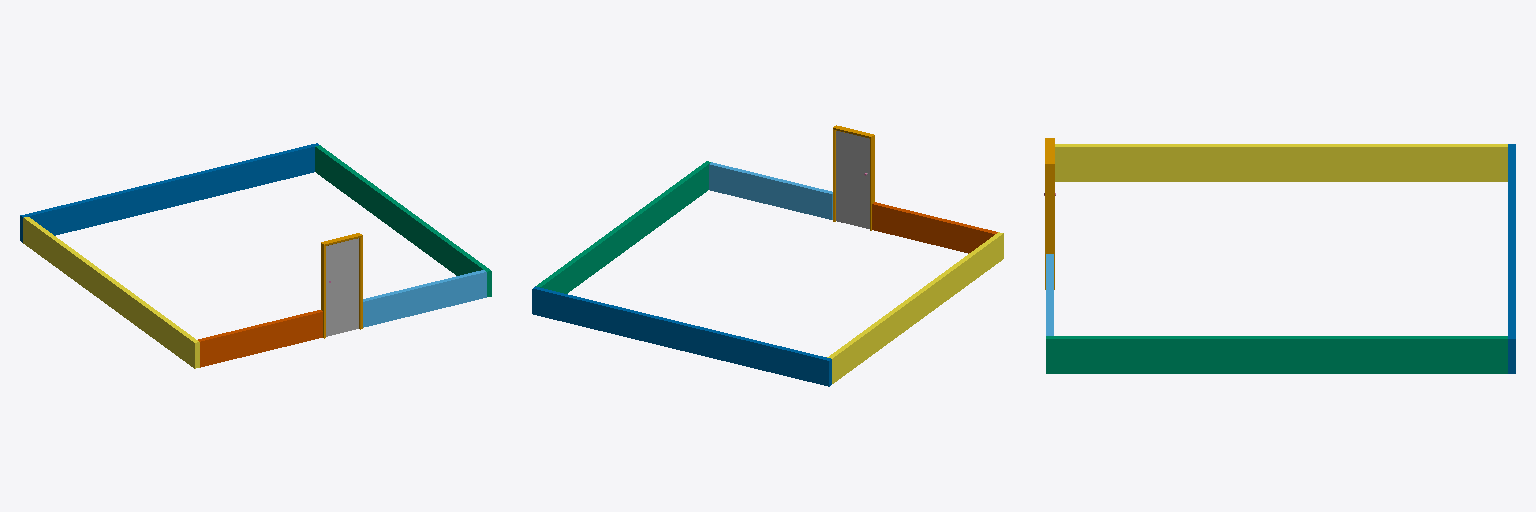
robot.urdf — 8903:
<?xml version="1.0" ?>
<robot name="8903" version="1.0">
  <link name="base_link">
    <visual name="link_0___1">
      <origin rpy="0.0 0.0 0.0" xyz="0.0 -0.0 0.0"/>
      <geometry>
        <mesh filename="shape/visual/link_0_m1_vm.obj"/>
      </geometry>
    </visual>
    <collision>
      <origin rpy="0.0 0.0 0.0" xyz="0.0 -0.0 0.0"/>
      <geometry>
        <mesh filename="shape/collision/link_0_cm.obj"/>
      </geometry>
    </collision>
  </link>
  <link name="door_left_wall">
    <visual name="left_wall_0___1">
      <origin rpy="0.0 0.0 0.0" xyz="0.0 -0.0 0.0"/>
      <geometry>
        <box size="2.5 0.1 0.5"/>
      </geometry>
    </visual>
    <collision>
      <origin rpy="0.0 0.0 0.0" xyz="0.0 -0.0 0.0"/>
      <geometry>
        <box size="2.5 0.1 0.5"/>
      </geometry>
    </collision>
  </link>
  <link name="left_wall">
    <visual name="left_wall_1___1">
      <origin rpy="0.0 0.0 0.0" xyz="0.0 -0.0 0.0"/>
      <geometry>
        <box size="6.0 0.1 0.5"/>
      </geometry>
    </visual>
    <collision>
      <origin rpy="0.0 0.0 0.0" xyz="0.0 -0.0 0.0"/>
      <geometry>
        <box size="6.0 0.1 0.5"/>
      </geometry>
    </collision>
  </link>
  <link name="right_wall">
    <visual name="right_wall_1___1">
      <origin rpy="0.0 0.0 0.0" xyz="0.0 -0.0 0.0"/>
      <geometry>
        <box size="6.0 0.1 0.5"/>
      </geometry>
    </visual>
    <collision>
      <origin rpy="0.0 0.0 0.0" xyz="0.0 -0.0 0.0"/>
      <geometry>
        <box size="6.0 0.1 0.5"/>
      </geometry>
    </collision>
  </link>
  <link name="back_wall">
    <visual name="back_wall_1___1">
      <origin rpy="0.0 0.0 0.0" xyz="0.0 -0.0 0.0"/>
      <geometry>
        <box size="6.0 0.1 0.5"/>
      </geometry>
    </visual>
    <collision>
      <origin rpy="0.0 0.0 0.0" xyz="0.0 -0.0 0.0"/>
      <geometry>
        <box size="6.0 0.1 0.5"/>
      </geometry>
    </collision>
  </link>
  <link name="door_right_wall">
    <visual name="right_wall_0___1">
      <origin rpy="0.0 0.0 0.0" xyz="0.0 -0.0 0.0"/>
      <geometry>
        <box size="2.5 0.1 0.5"/>
      </geometry>
    </visual>
    <collision>
      <origin rpy="0.0 0.0 0.0" xyz="0.0 -0.0 0.0"/>
      <geometry>
        <box size="2.5 0.1 0.5"/>
      </geometry>
    </collision>
  </link>
  <link name="link_1">
    <visual name="link_1___2">
      <origin rpy="0.0 0.0 0.0" xyz="0.2718480576000603 0.07412800192832969 -0.14707143841511927"/>
      <geometry>
        <mesh filename="shape/visual/link_1_m2_vm.obj"/>
      </geometry>
    </visual>
    <collision>
      <origin rpy="0.0 0.0 0.0" xyz="0.2718480576000603 0.07412800192832969 -0.14707143841511927"/>
      <geometry>
        <mesh filename="shape/collision/link_1_cm.obj"/>
      </geometry>
    </collision>
  </link>
  <link name="link_2">
    <visual name="link_2___1">
      <origin rpy="0.0 0.0 0.0" xyz="-0.37034833274488377 0.0017434567958520795 -0.8958240151405333"/>
      <geometry>
        <mesh filename="shape/visual/link_2_m1_vm.obj"/>
      </geometry>
    </visual>
    <!-- <inertial>
      <origin rpy="0 0 0" xyz="0 0 0"/>
      <mass value="10.85"/>
    </inertial> -->
    <visual name="link_2___2">
      <origin rpy="0.0 0.0 0.0" xyz="-0.37034833274488377 0.0017434567958520795 -0.8958240151405333"/>
      <geometry>
        <mesh filename="shape/visual/link_2_m2_vm.obj"/>
      </geometry>
    </visual>
    <collision>
      <origin rpy="0.0 0.0 0.0" xyz="-0.37034833274488377 0.0017434567958520795 -0.8958240151405333"/>
      <geometry>
        <mesh filename="shape/collision/link_2_cm.obj"/>
      </geometry>
    </collision>
  </link>
  <joint name="joint_1" type="revolute">
    <origin rpy="0.0 0.0 0.0" xyz="-0.6421963903449441 -0.0723845451324776 -0.7487525767254141"/>
    <axis xyz="0.0 -1.0 0.0"/>
    <parent link="link_2"/>
    <child link="link_1"/>
    <limit lower="0.0" upper="1.5707963267948966"/>
  </joint>
  <joint name="joint_2" type="revolute">
    <origin rpy="0.0 0.0 0.0" xyz="0.37034833274488377 -0.0017434567958520795 0.8958240151405333"/>
    <axis xyz="0.0 -0.0 0.9999999999999999"/>
    <parent link="base_link"/>
    <child link="link_2"/>
    <limit lower="0.0" upper="1.5707963267948966"/>
  </joint>
  <joint name="joint_3" type="fixed">
    <origin rpy="0.0 0.0 0.0" xyz="1.65 0.0 -0.65"/>
    <parent link="base_link"/>
    <child link="door_left_wall"/>
  </joint>
  <joint name="joint_4" type="fixed">
    <origin rpy="0.0 0.0 1.57079632679" xyz="2.95 2.95 -0.65"/>
    <parent link="base_link"/>
    <child link="left_wall"/>
  </joint>
  <joint name="joint_5" type="fixed">
    <origin rpy="0.0 0.0 1.57079632679" xyz="-2.95 2.95 -0.65"/>
    <parent link="base_link"/>
    <child link="right_wall"/>
  </joint>
  <joint name="joint_6" type="fixed">
    <origin rpy="0.0 0.0 0" xyz="-0.0 6.0 -0.65"/>
    <parent link="base_link"/>
    <child link="back_wall"/>
  </joint>
  <joint name="joint_7" type="fixed">
    <origin rpy="0.0 0.0 0.0" xyz="-1.65 0.0 -0.65"/>
    <parent link="base_link"/>
    <child link="door_right_wall"/>
  </joint>
</robot>

--- Render facts (derived) ---
The picture shows the robot from 3 angles, left to right: view 1: azimuth 30°, elevation 25°; view 2: azimuth 150°, elevation 25°; view 3: azimuth 270°, elevation 25°; orthographic projection.
Robot: 8903 — 8 links, 7 joints (2 revolute, 5 fixed); root link base_link; default pose: all joints at 0.
Visible links, largest first — view 1: back_wall, right_wall, left_wall, door_left_wall, door_right_wall, link_2, base_link; view 2: back_wall, right_wall, left_wall, door_left_wall, door_right_wall, link_2, base_link; view 3: left_wall, right_wall, back_wall, base_link, door_left_wall.
Link boxes in pixels (bbox=[...]): back_wall: bbox=[20, 143, 318, 242]; right_wall: bbox=[23, 217, 199, 368]; left_wall: bbox=[315, 145, 491, 296]; door_left_wall: bbox=[363, 270, 486, 327]; door_right_wall: bbox=[198, 310, 322, 367]; link_2: bbox=[326, 238, 358, 336]; base_link: bbox=[321, 233, 362, 338]; back_wall: bbox=[532, 286, 831, 386]; right_wall: bbox=[827, 232, 1003, 383]; left_wall: bbox=[536, 161, 710, 293]; door_left_wall: bbox=[709, 162, 832, 219]; door_right_wall: bbox=[872, 202, 997, 253]; link_2: bbox=[836, 131, 869, 228]; base_link: bbox=[833, 125, 874, 230]; left_wall: bbox=[1046, 336, 1507, 373]; right_wall: bbox=[1055, 144, 1507, 181]; back_wall: bbox=[1508, 144, 1515, 373]; base_link: bbox=[1045, 138, 1054, 289]; door_left_wall: bbox=[1046, 254, 1053, 335].
Size in the robot's own frame: 6 by 6.12 by 1.82 metres.
4 mesh visuals loaded from 4 distinct referenced files (4 OBJ).